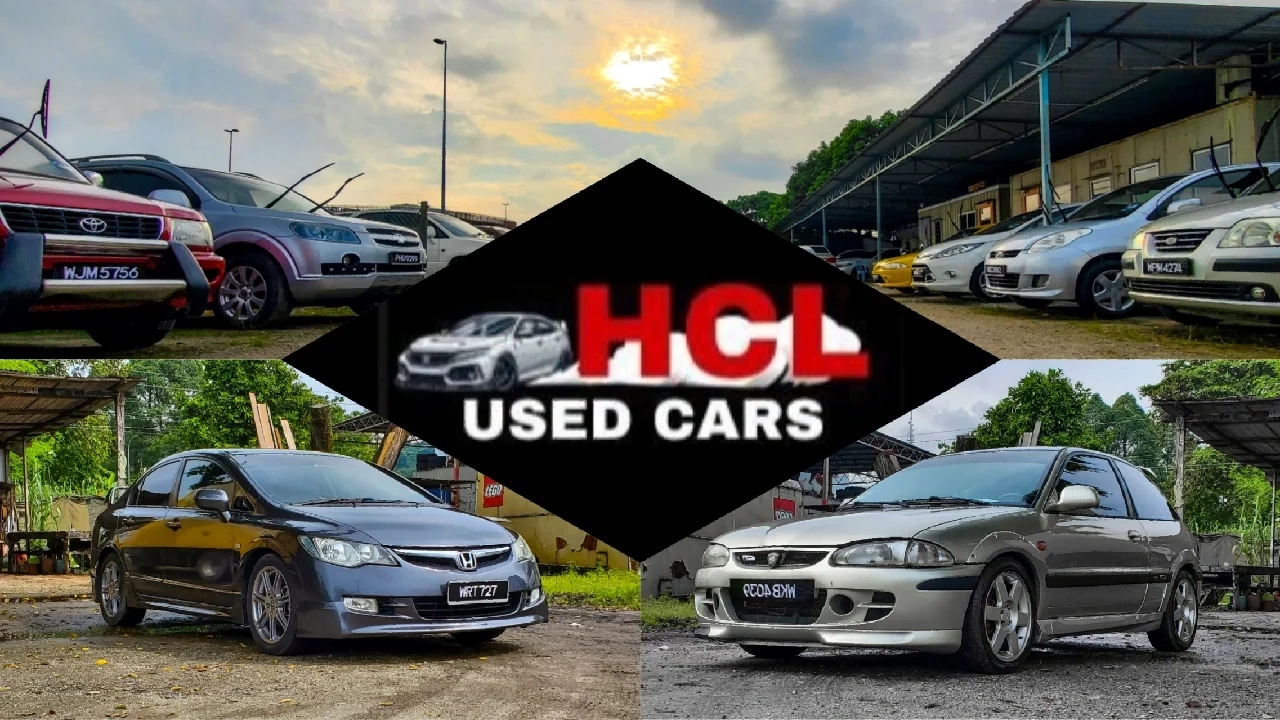other: (697, 433, 1201, 655), (67, 422, 560, 642)
